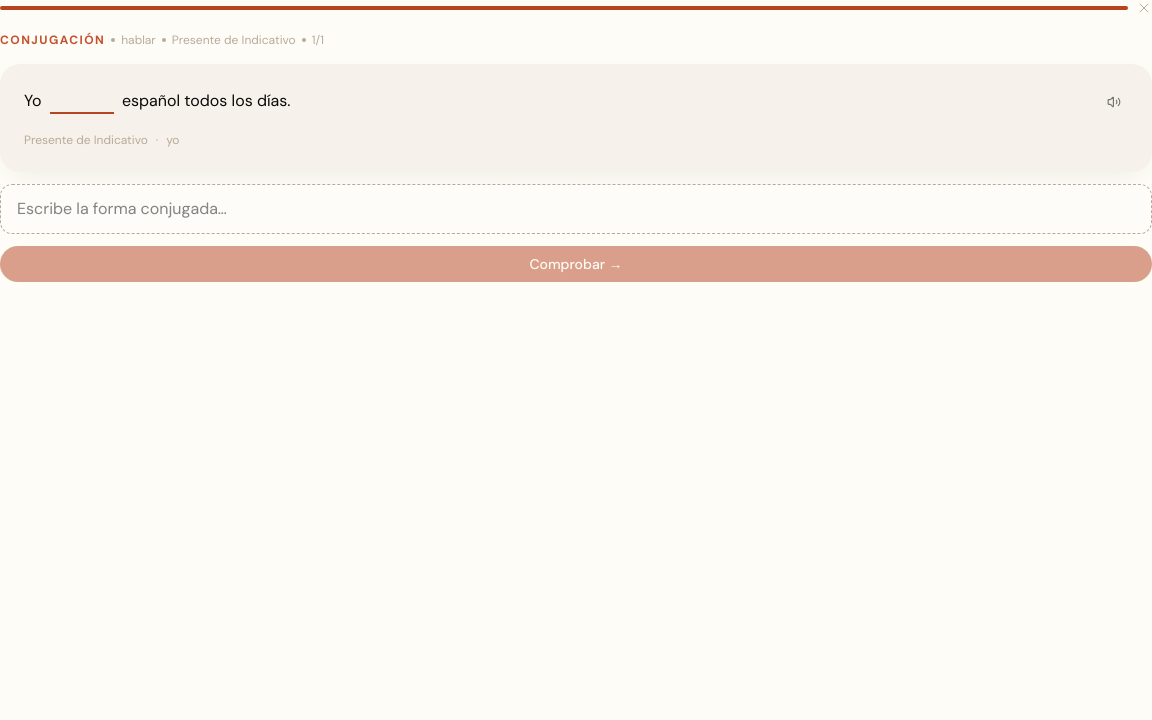
Scenario: VerbSession › shows exit confirmation dialog when X is clicked
The width and height of the screenshot is (1152, 720).
Click the button named "Salir de la sesión" at (1144, 8), box [1136,0,1151,16]
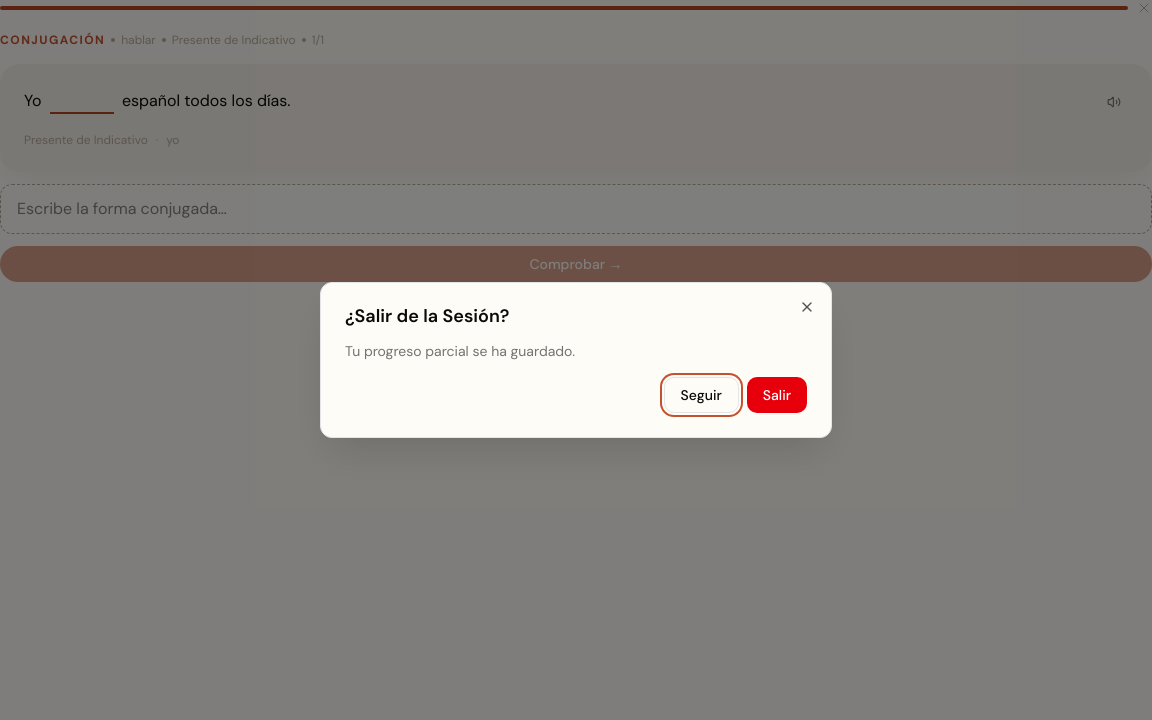
Expected: the heading "¿Salir de la Sesión?" is shown, [345,304,510,328]
Expected: the text "Tu progreso parcial se ha guardado." is shown, [345,342,575,360]
Expected: the button "Seguir" is shown, [664,377,739,413]
